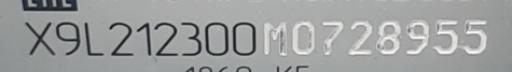letter: (22, 18, 56, 55), (460, 17, 490, 55), (375, 18, 403, 56), (347, 19, 375, 57), (404, 17, 430, 57), (107, 19, 135, 56), (431, 18, 459, 54), (153, 20, 181, 56), (318, 18, 344, 56), (231, 19, 257, 57), (262, 18, 288, 55), (204, 20, 230, 56), (55, 20, 81, 56), (290, 19, 316, 54), (83, 18, 105, 56), (180, 20, 202, 56), (134, 18, 154, 55)
